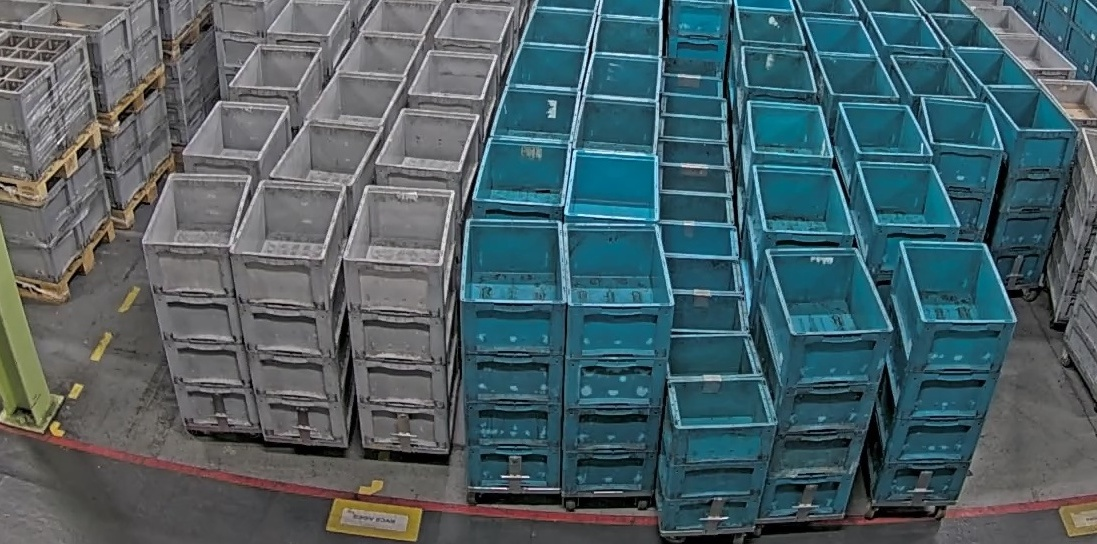4G: (227, 178, 353, 450), (140, 171, 263, 438), (341, 184, 456, 453)
B4: (864, 239, 1019, 505), (752, 246, 894, 518), (563, 222, 677, 495), (458, 216, 570, 491), (918, 94, 1005, 243), (622, 494, 625, 496)
B8: (657, 334, 780, 533)
